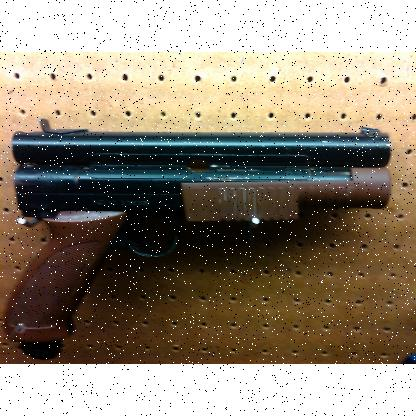gun: (3, 117, 393, 345)
